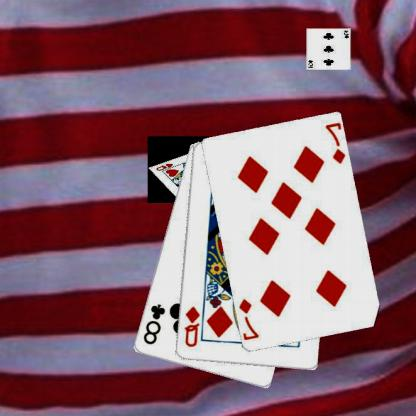7D: (238, 296, 262, 341), (324, 121, 348, 166)
8C: (142, 301, 168, 346)
QD: (183, 304, 203, 348)
